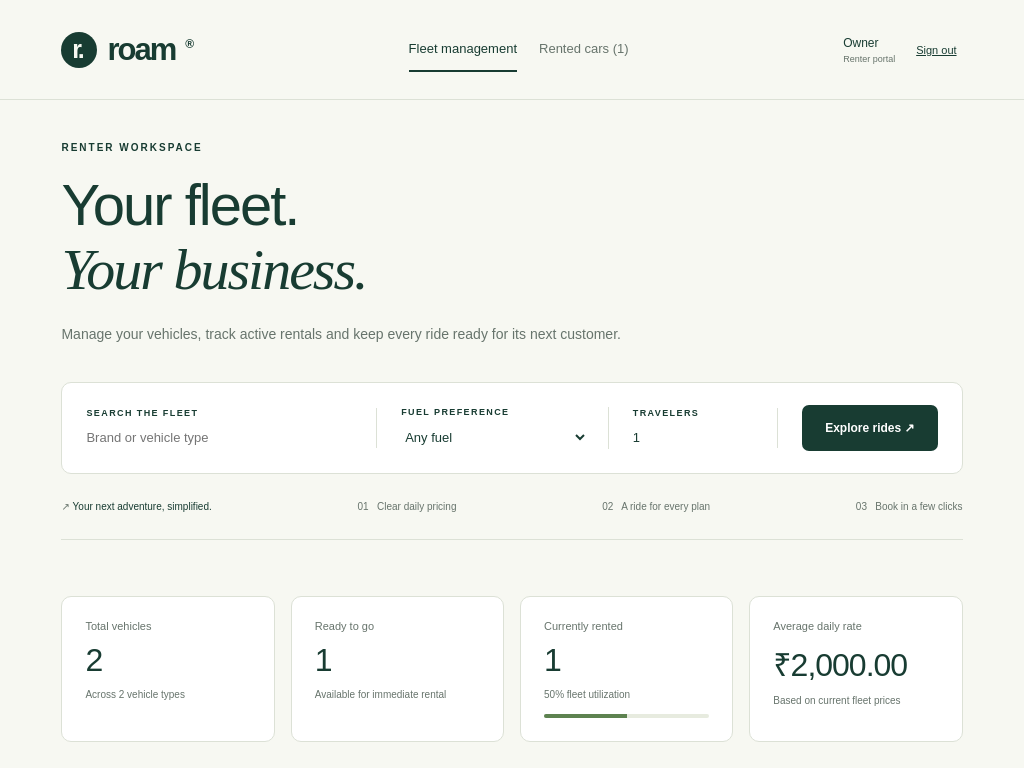
Test: renter only loads own fleet and gets a dedicated rented list
The width and height of the screenshot is (1024, 768).
Expected: the number of elements with class "metric" is 4, [61, 596, 275, 742]; [291, 596, 504, 742]; [520, 596, 733, 742]; [749, 596, 963, 742]
Step 1. Click the button "Rented cars (1)" → (584, 50), box [539, 27, 629, 72]
(page scrolled)
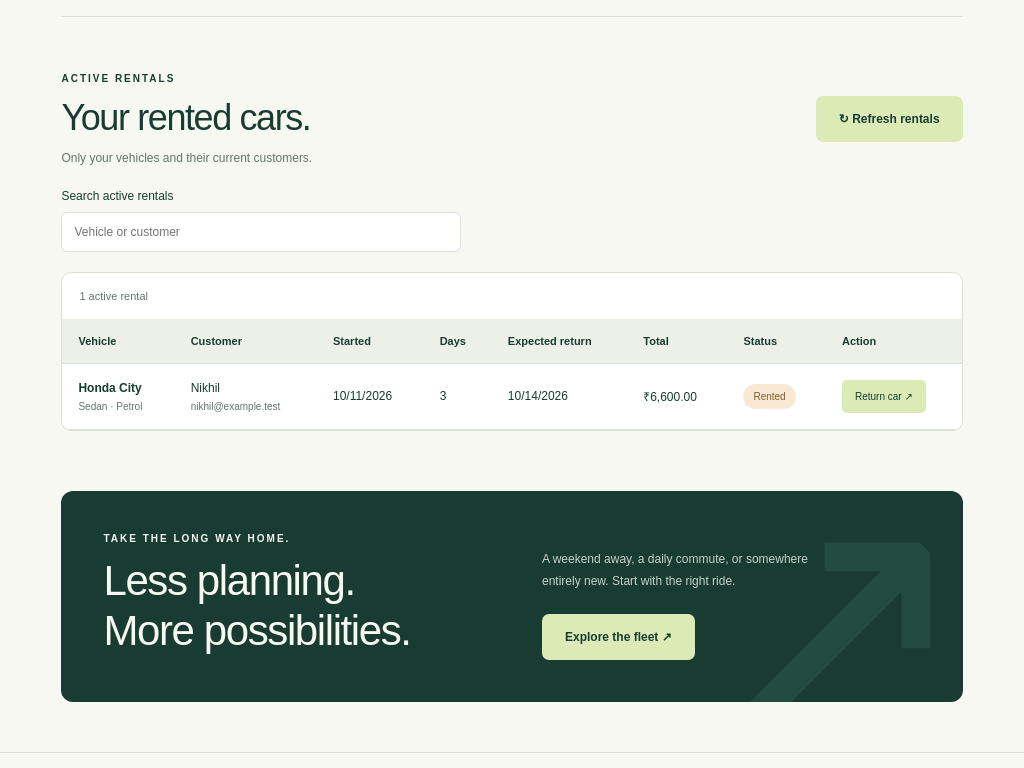
Expected: the button "Return car ↗" is shown, [842, 380, 926, 413]
Expected: the table with class "rental-table" shows "Nikhil", [191, 381, 220, 395]
Expected: the table with class "rental-table" shows "Honda City", [78, 381, 142, 395]
